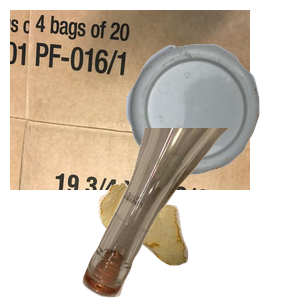cardboard: (10, 10, 250, 190)
glass: (80, 128, 300, 300)
plastic: (124, 42, 300, 210)
trash: (96, 181, 277, 300)
